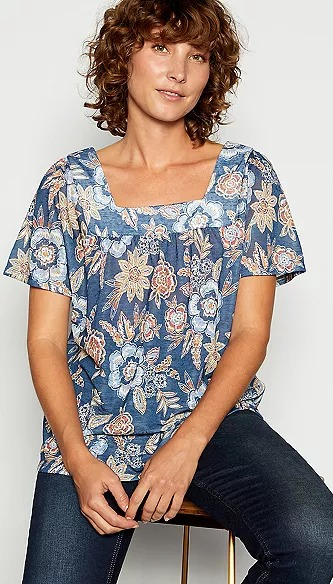C_short blouse: (6, 140, 307, 481)
